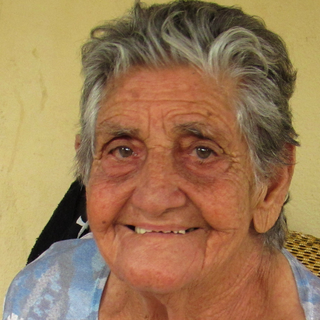eye: (181, 139, 224, 168), (103, 141, 143, 166)
